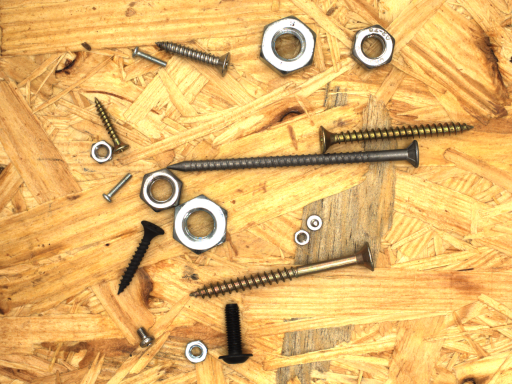screw_long: (155, 130, 432, 190)
